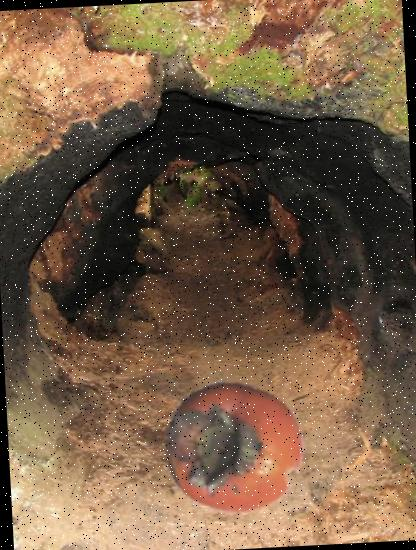Kaki: (160, 372, 310, 524)
